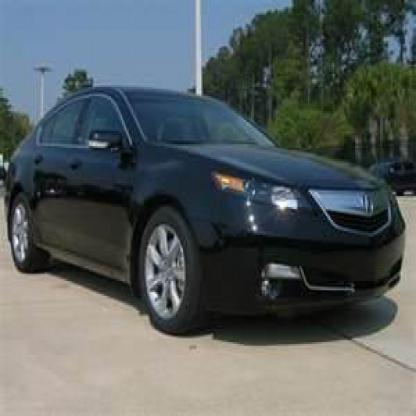Vehicle: (4, 87, 411, 338)
